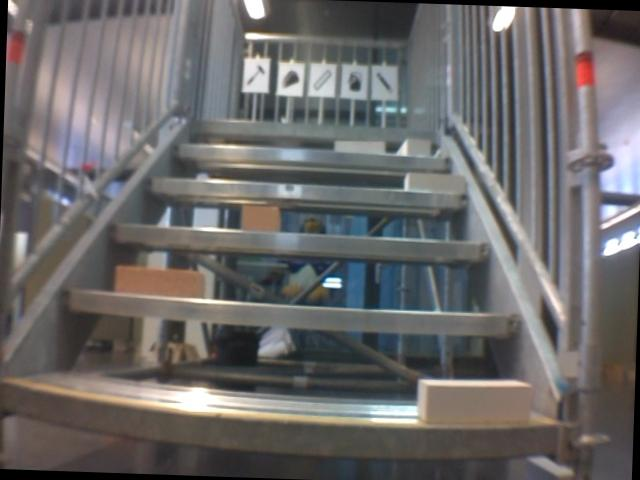brick: (417, 378, 532, 426), (113, 265, 205, 298), (404, 172, 465, 193), (242, 206, 281, 232), (335, 139, 384, 153), (399, 138, 430, 154)
bucket: (345, 69, 363, 93)
edge: (0, 381, 562, 462), (60, 289, 522, 336), (109, 223, 489, 259), (145, 176, 470, 207), (168, 142, 453, 169), (192, 119, 439, 140)
hammer: (244, 63, 266, 89)
pencil: (373, 71, 396, 96)
ruler: (310, 66, 333, 92)
taco: (278, 67, 299, 90)
